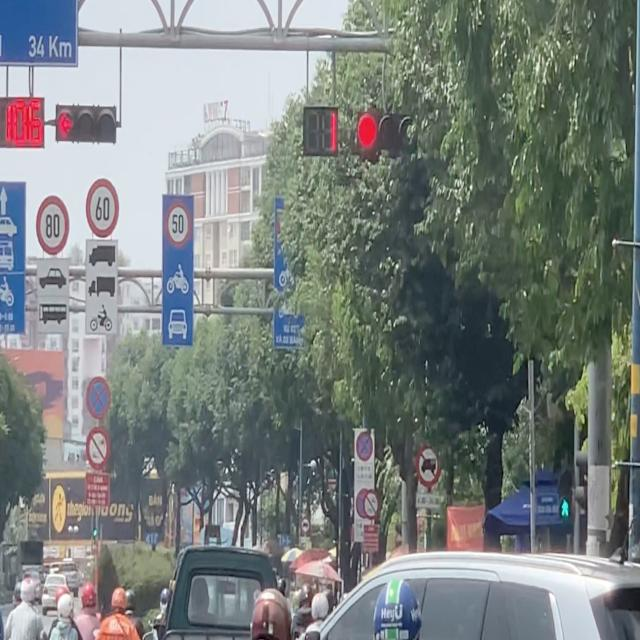Cam dung va do: (85, 374, 112, 422), (356, 431, 374, 463)
Toc do toi da: (85, 181, 127, 237), (36, 194, 72, 254), (167, 199, 190, 247)
